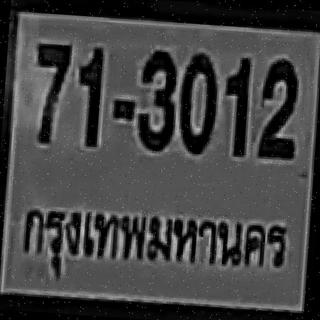N00: (175, 49, 218, 153)
N01: (219, 54, 251, 155), (74, 45, 103, 146), (73, 45, 104, 139)
N02: (255, 58, 299, 157)
N03: (133, 46, 177, 150)
N07: (28, 41, 70, 142)
P04: (14, 195, 297, 295)
